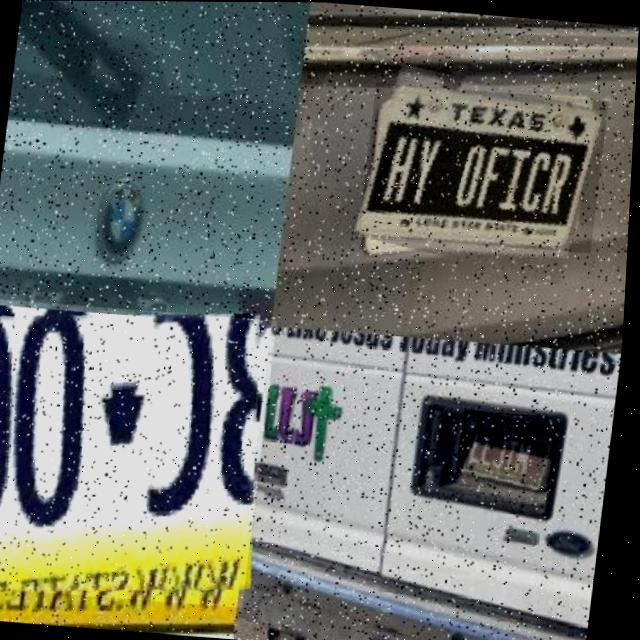LicensePlate: (0, 297, 281, 607), (360, 84, 608, 248), (462, 410, 563, 491)
